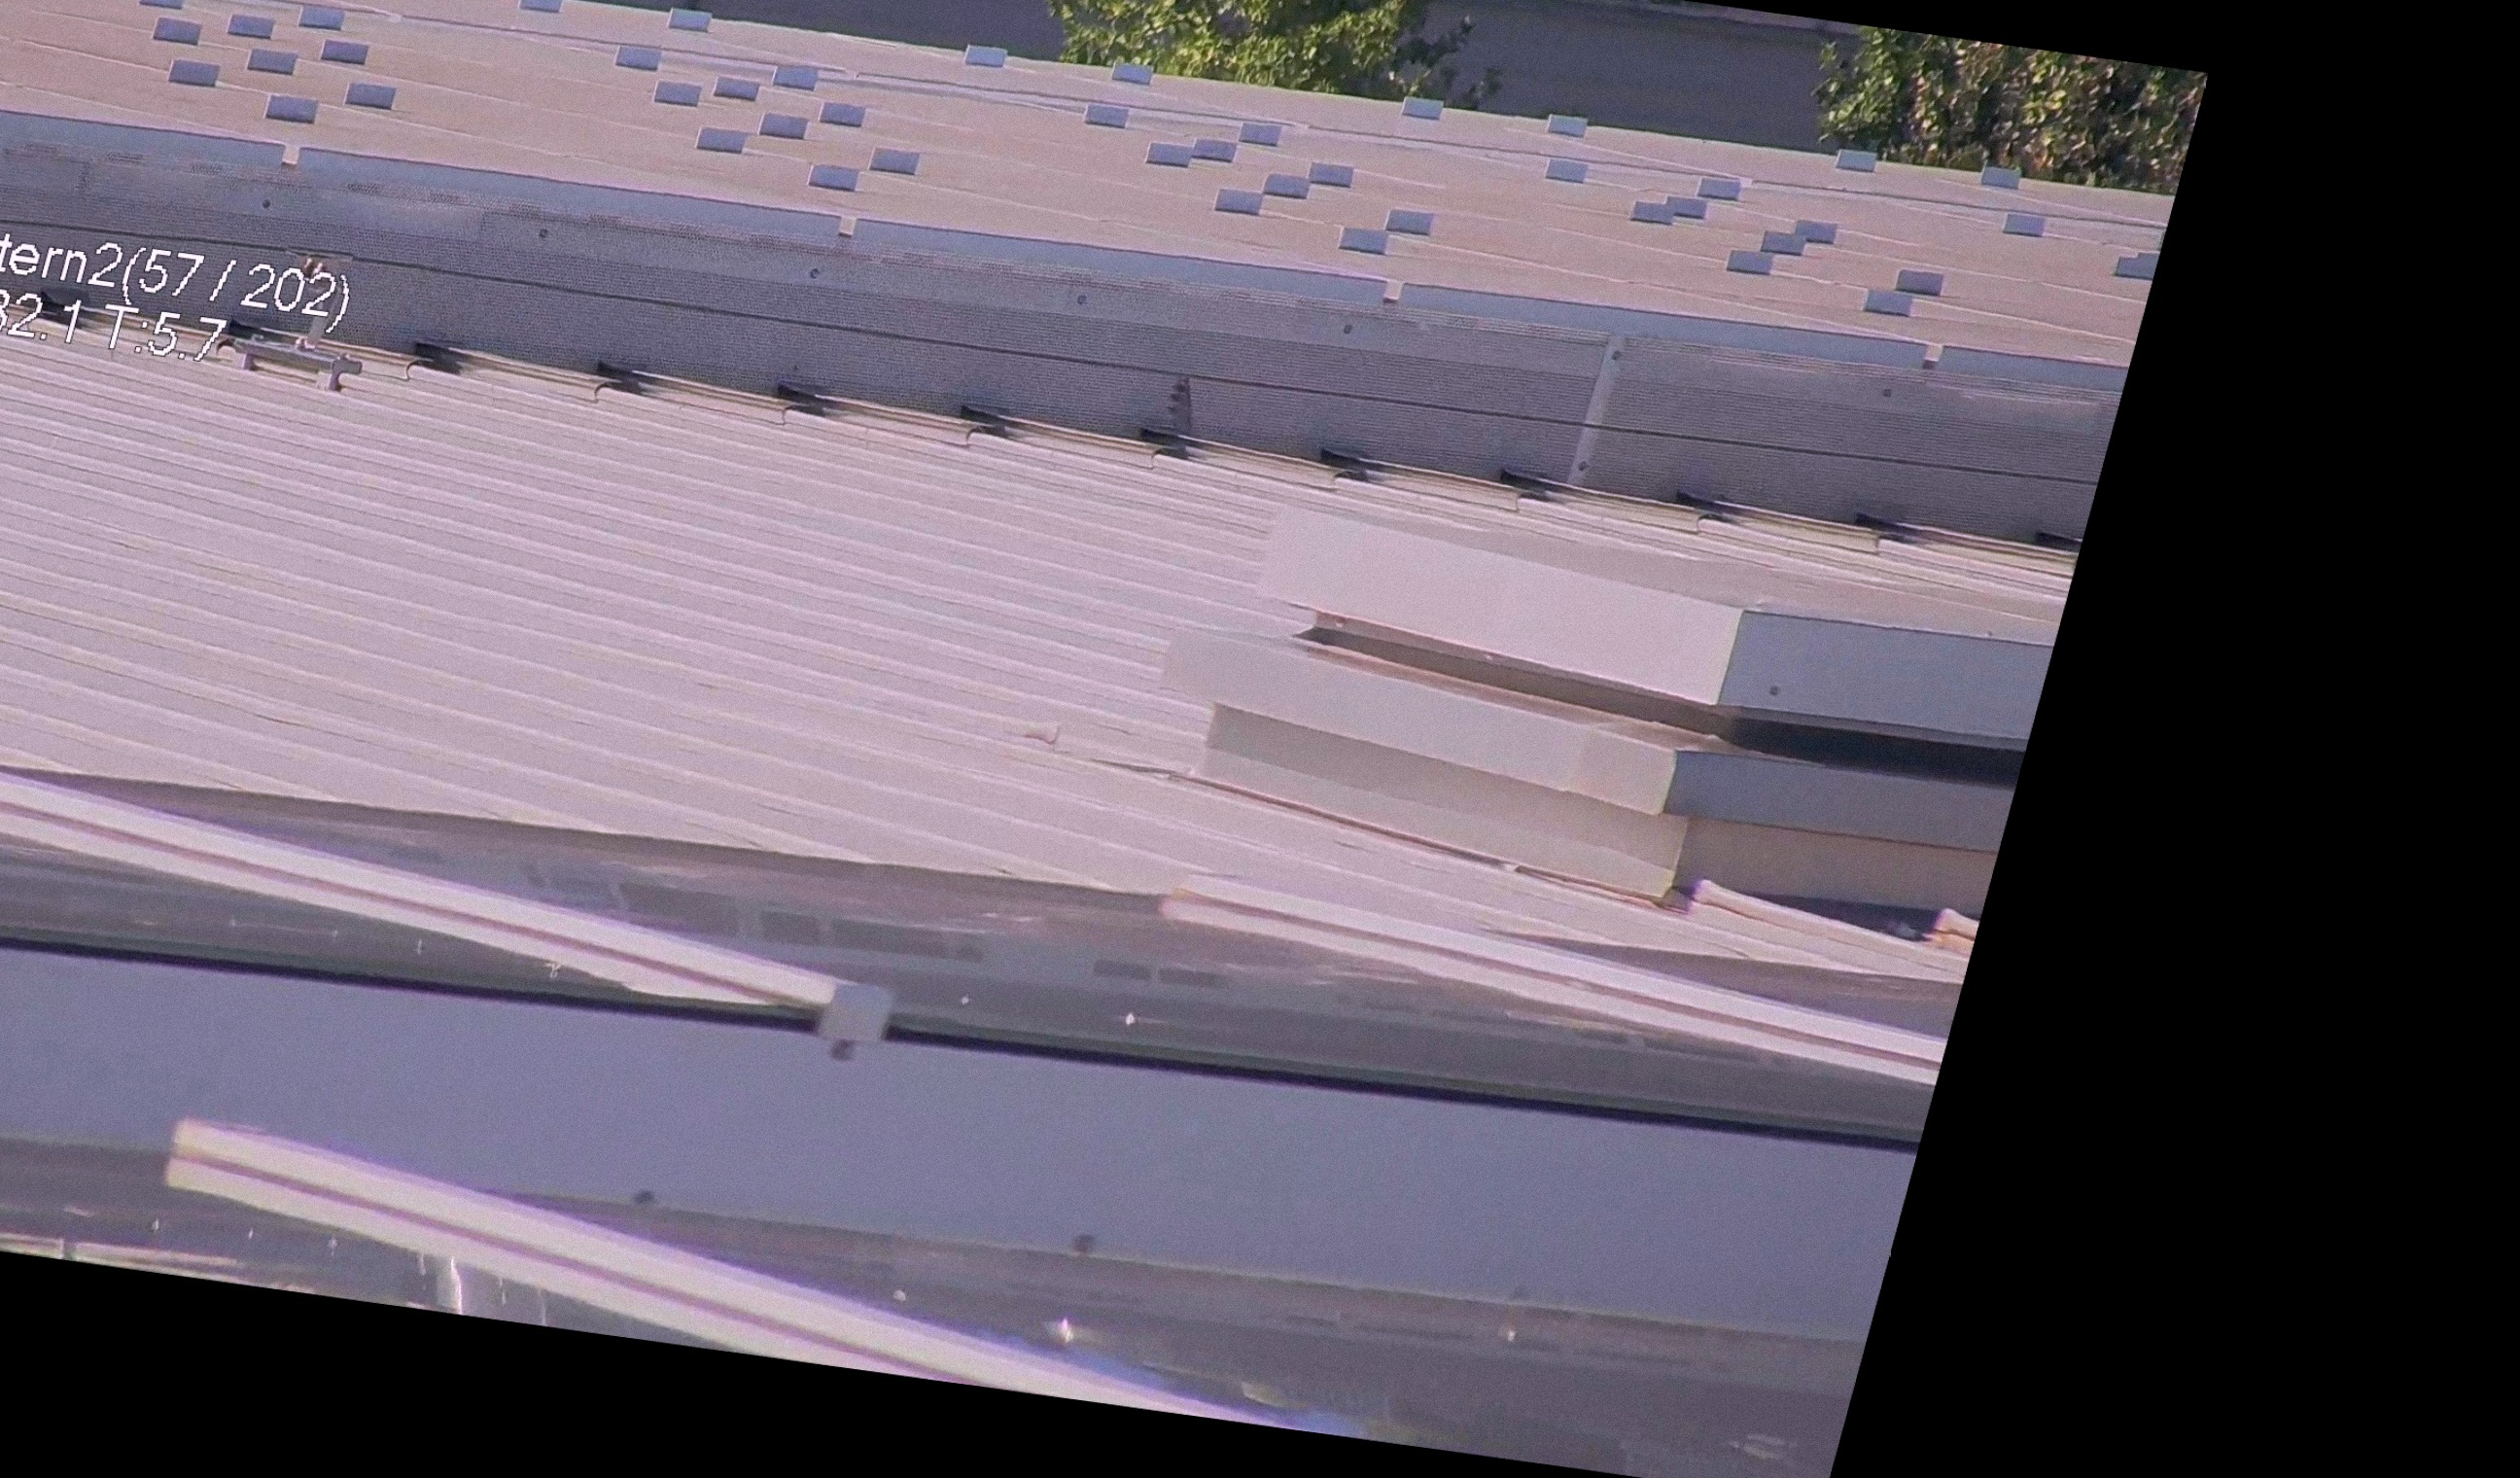Other: (1138, 345, 1240, 465)
